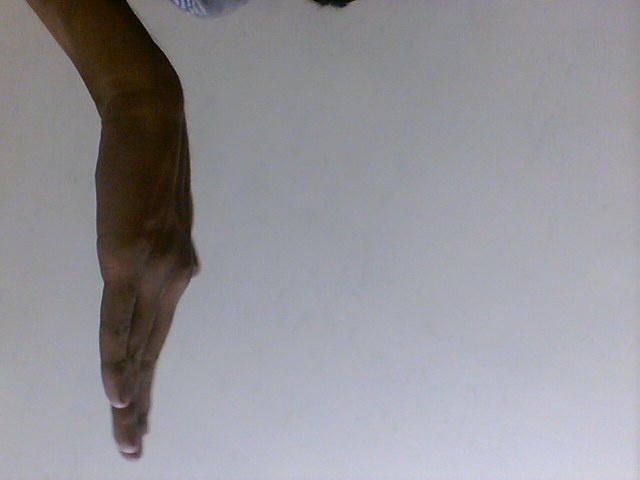hand: (87, 93, 206, 460)
